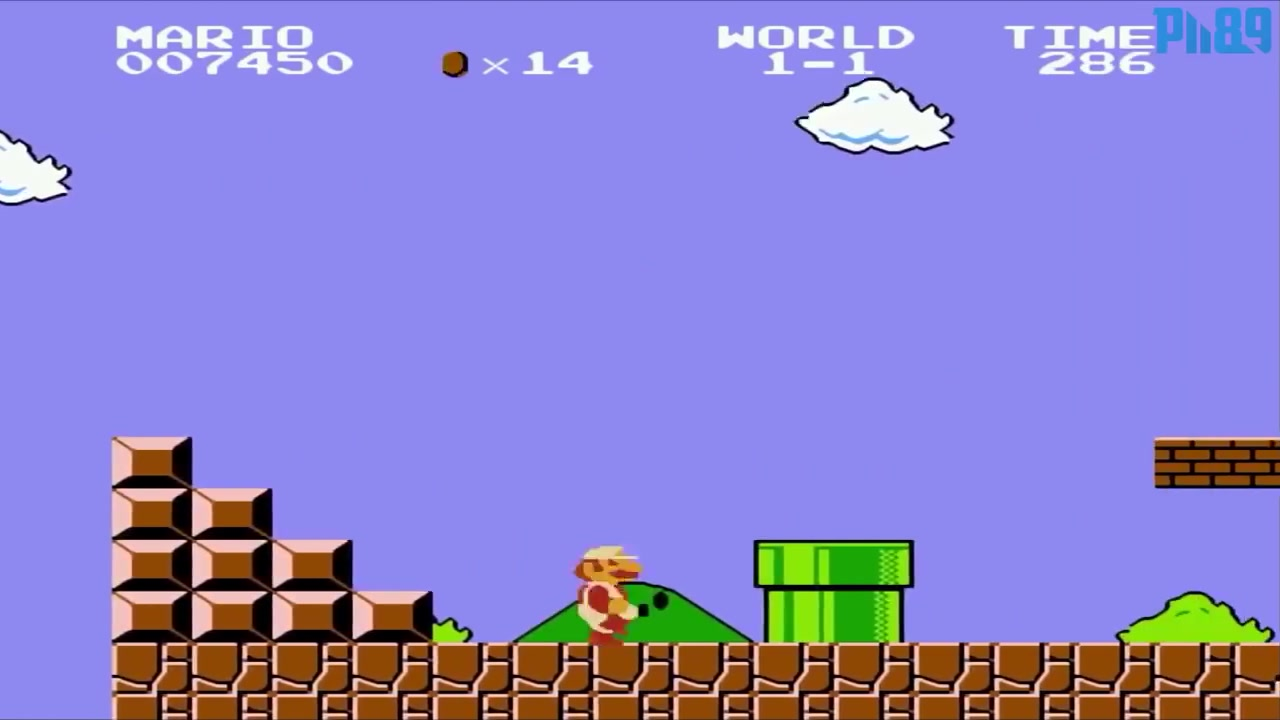mario: (556, 527, 665, 648)
